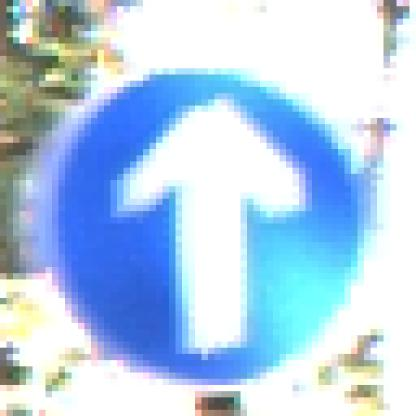AheadOnly: (34, 38, 378, 380)
